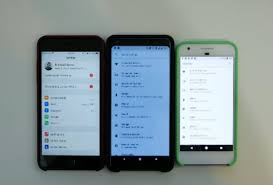phone: (35, 32, 105, 172), (107, 33, 174, 175), (175, 39, 238, 168)
